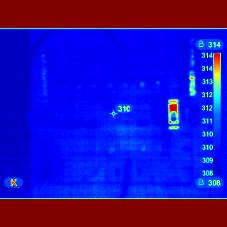Less: (169, 112, 180, 129)
